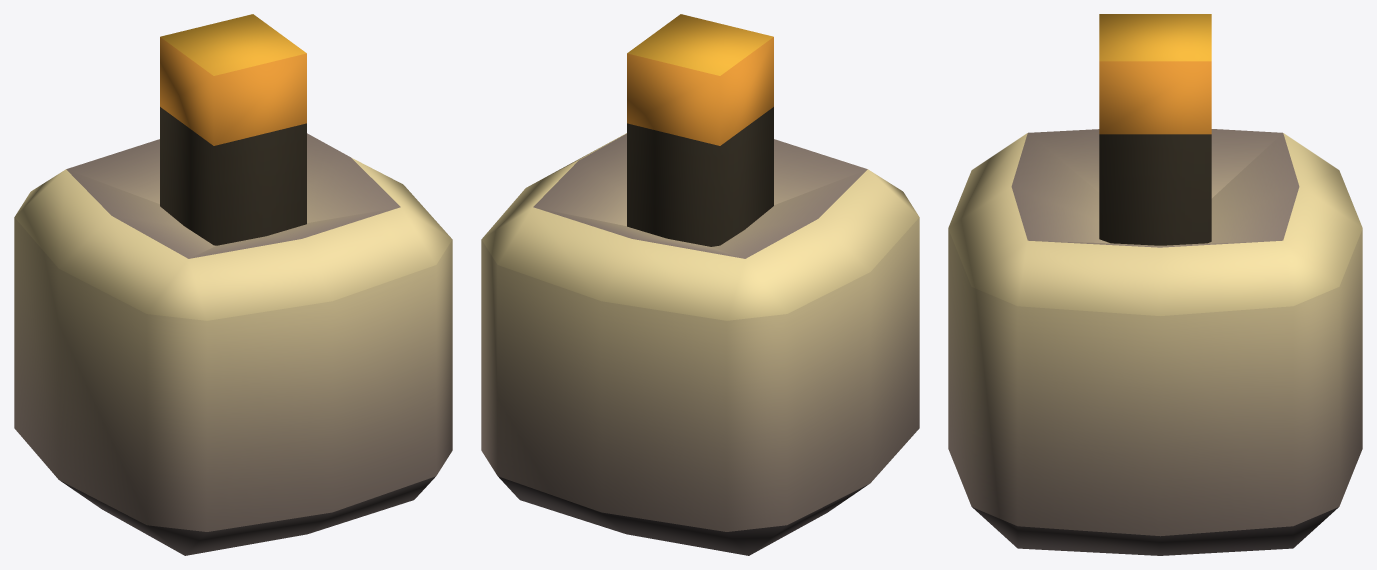
The model's file is candle_small_3_LOD_setup.fbx.
3 renders of one model, left to right at view 1: azimuth 30°, elevation 25°; view 2: azimuth 150°, elevation 25°; view 3: azimuth 270°, elevation 25°, orthographic. The views are drawn at different scales.
Visible parts, largest first — view 1: candle_small_3_LOD0; view 2: candle_small_3_LOD0; view 3: candle_small_3_LOD0.
Part boxes in pixels (left/top/right/bottom): candle_small_3_LOD0: left=14, top=14, right=452, bottom=555; candle_small_3_LOD0: left=481, top=14, right=919, bottom=555; candle_small_3_LOD0: left=948, top=14, right=1362, bottom=555.
Size of what is drawn, in the model's own units: 20.87 by 25.13 by 20.87.
